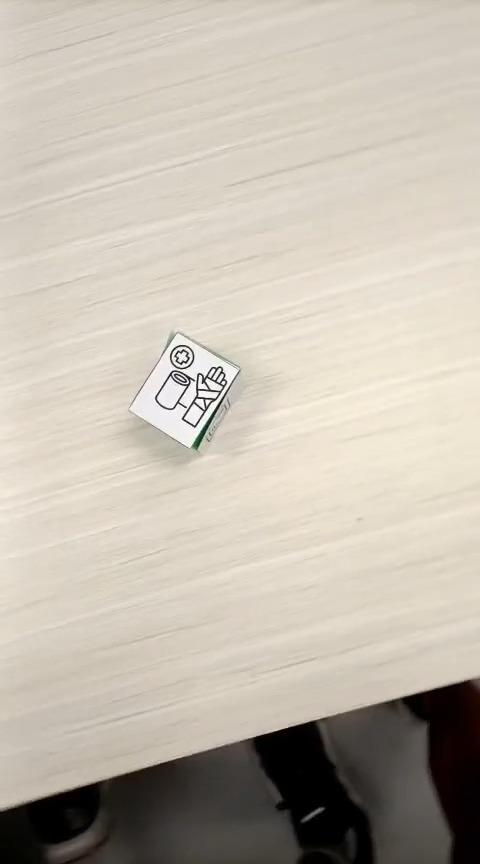Bandages: (128, 328, 241, 453)
